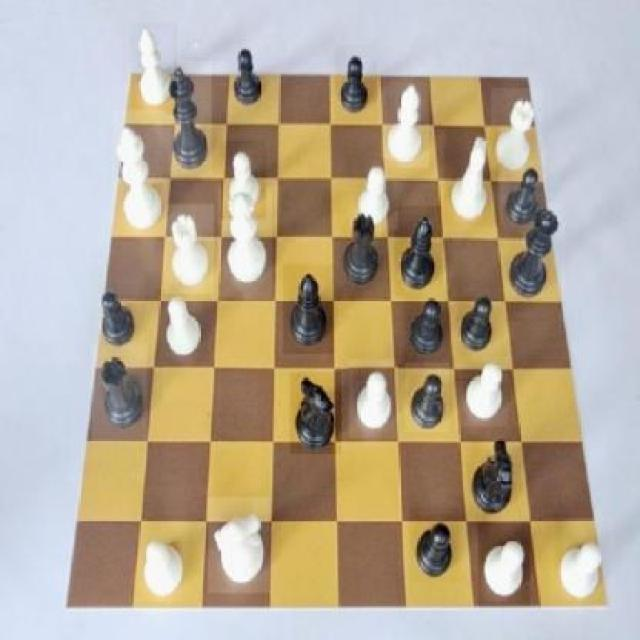bishop: (283, 264, 334, 354), (394, 206, 443, 296)
black-bishop: (162, 60, 212, 176)
black-king: (462, 428, 522, 522), (290, 372, 342, 455)
black-knight: (96, 277, 144, 355), (451, 288, 502, 360), (411, 508, 460, 582), (498, 152, 546, 225), (404, 288, 450, 360), (335, 46, 378, 123), (404, 363, 448, 432), (228, 40, 265, 109)
black-pawn: (504, 202, 566, 298)
black-queen: (92, 345, 148, 442), (338, 204, 386, 294)
black-rook: (382, 74, 429, 168), (131, 23, 177, 115)
white-bishop: (112, 111, 168, 237)
white-king: (208, 497, 270, 593), (445, 126, 500, 227)
white-knight: (551, 517, 615, 610), (478, 524, 531, 610), (138, 523, 188, 602), (349, 360, 398, 440), (156, 291, 210, 363), (220, 140, 266, 219), (458, 356, 508, 428), (352, 160, 398, 231)
white-pawn: (218, 186, 272, 299)
white-queen: (491, 89, 543, 177), (164, 204, 214, 294)
